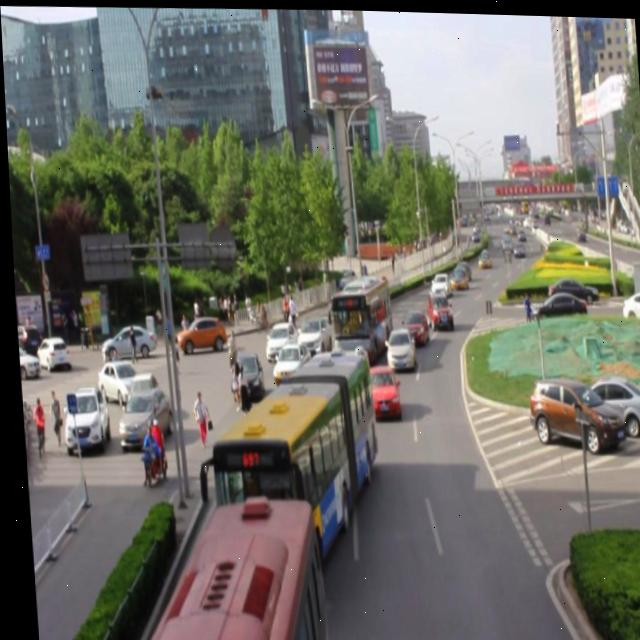car: (267, 372, 316, 435), (225, 345, 261, 402), (360, 360, 396, 417), (266, 339, 309, 380), (259, 317, 295, 364), (291, 312, 327, 357), (380, 324, 411, 367), (420, 285, 449, 327), (395, 306, 425, 343), (425, 269, 448, 296)
van: (200, 345, 376, 548), (143, 489, 317, 640), (324, 272, 392, 354)
